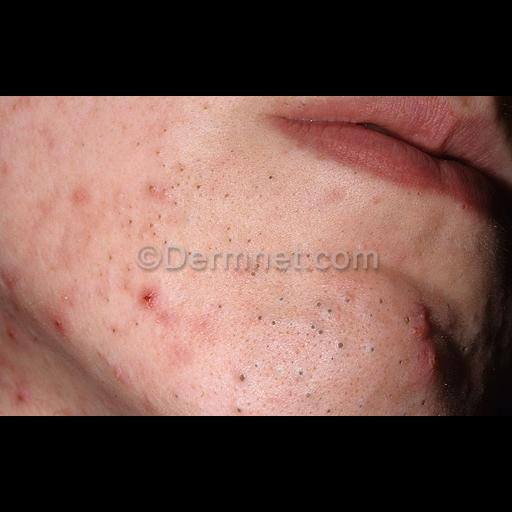Skin_Lesion: (134, 281, 174, 329), (425, 351, 465, 389), (412, 298, 438, 344), (52, 310, 78, 342), (132, 216, 172, 234), (6, 96, 36, 118), (237, 264, 263, 288), (144, 178, 166, 204), (70, 185, 92, 207), (38, 128, 58, 152), (253, 312, 277, 332), (13, 382, 31, 408), (308, 298, 336, 314), (114, 364, 132, 388), (302, 322, 326, 340), (453, 96, 477, 112), (355, 396, 373, 414), (332, 338, 350, 356), (0, 157, 14, 179), (210, 296, 226, 312), (235, 370, 249, 388), (373, 295, 387, 309), (174, 163, 188, 177), (228, 406, 246, 416), (290, 368, 308, 378), (106, 252, 120, 264), (323, 404, 337, 416), (395, 355, 407, 367), (382, 390, 394, 402), (304, 390, 316, 402), (396, 254, 410, 264), (193, 179, 203, 193), (243, 235, 255, 245), (427, 96, 443, 100)
